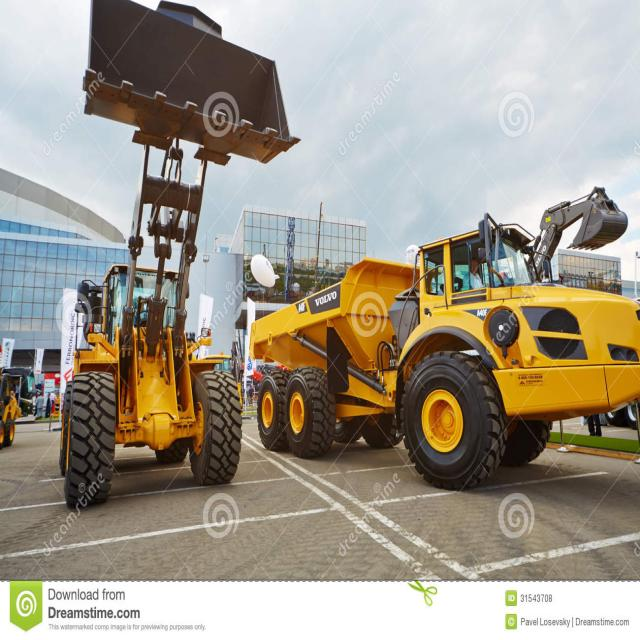buldozerpayloadergrader: (52, 5, 290, 505)
dump_truck: (254, 216, 640, 509)
